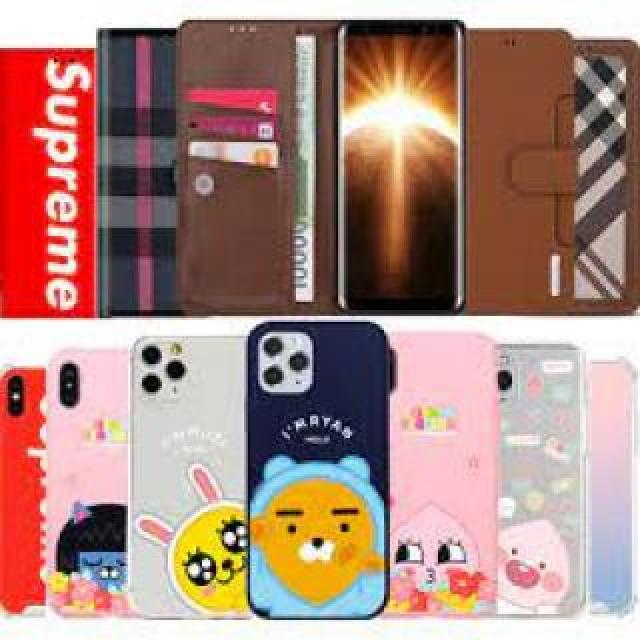smart phone: (255, 318, 388, 637), (340, 3, 467, 315), (392, 330, 502, 607), (145, 330, 243, 630), (496, 330, 596, 602), (46, 348, 132, 627), (590, 362, 640, 620), (0, 360, 42, 603)
